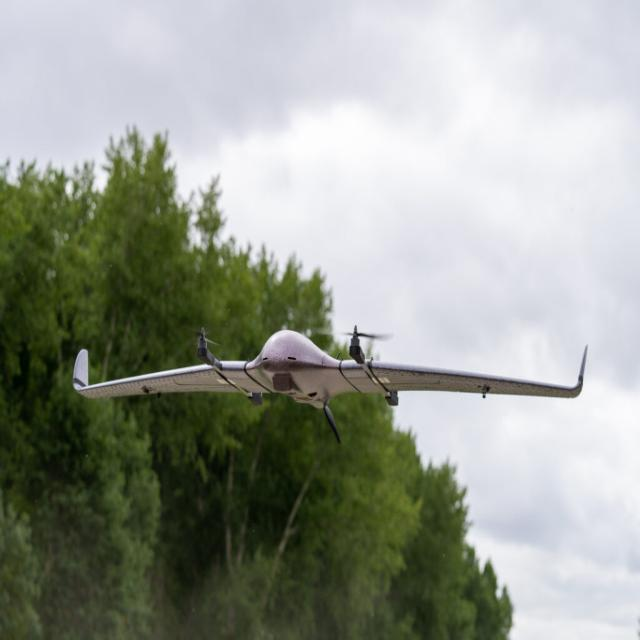drones: (60, 306, 595, 458)
